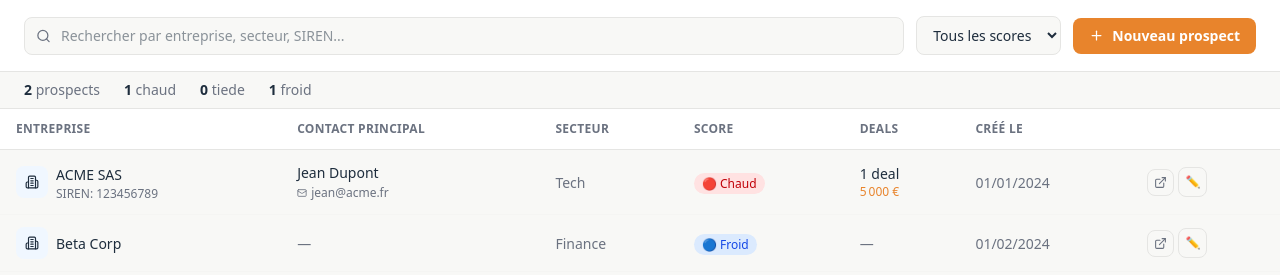
ProspectsClient › filters by search query
Type "ACME" into the field with placeholder "Rechercher par entreprise, secteur, SIREN..." at point(464, 36), box [24,16,904,54]
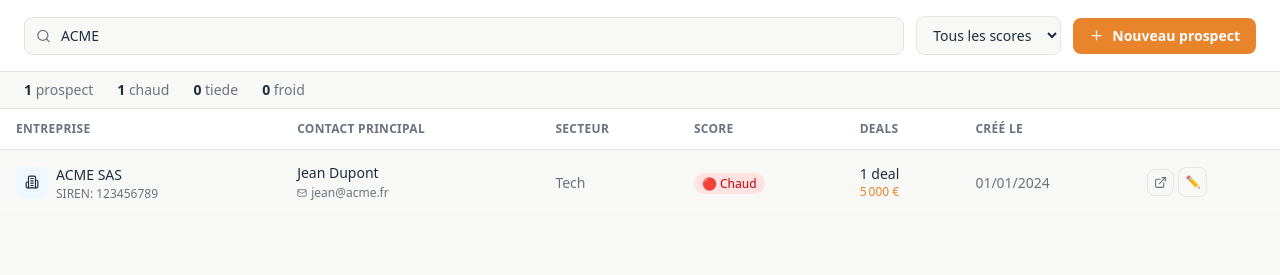
Check: the link "ACME SAS" is shown, box [56,165,122,184]
Check: the link "Beta Corp" is gone
